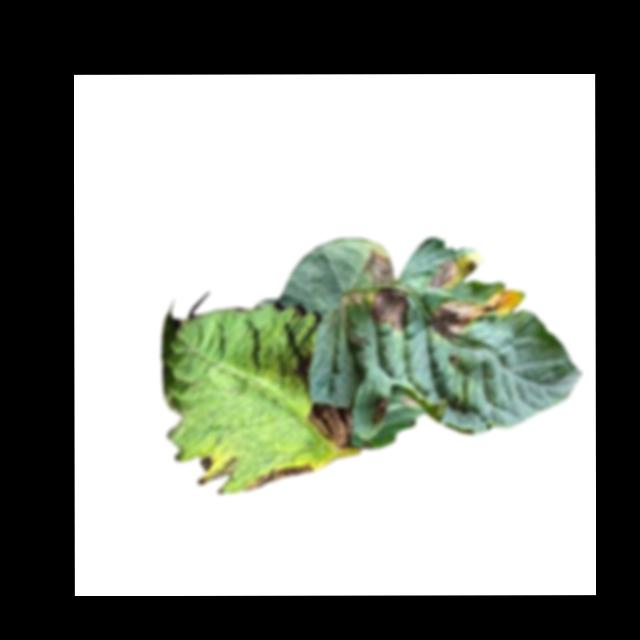Early_blight: (430, 287, 521, 339), (243, 462, 314, 493), (308, 403, 353, 449), (370, 289, 409, 332), (362, 243, 395, 286), (429, 256, 461, 288), (371, 391, 391, 424), (199, 453, 215, 471)
